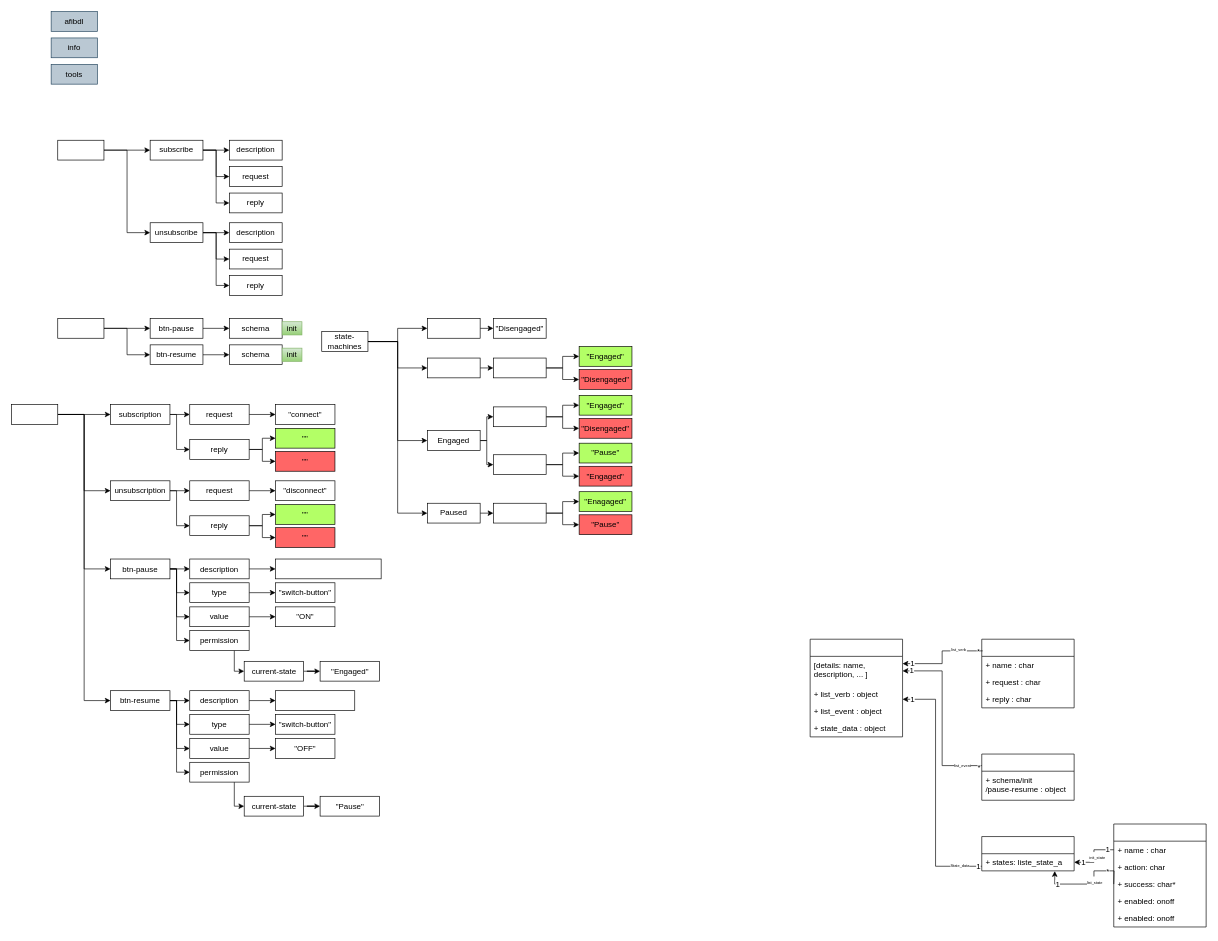
This 1218x941 diagram has some shape labels left out. Each missing label, with the box of its shape:
"btn-pause": (493, 454, 546, 475)
"btn-resume": (493, 503, 546, 523)
"Mettre le service en veille": (275, 558, 381, 579)
"Relancer le service": (275, 690, 355, 710)
"subscribe": (493, 357, 546, 378)
"unsubscribe": (493, 406, 546, 427)
Disengaged: (427, 357, 480, 378)
Event: (981, 753, 1074, 800)
events: (57, 318, 104, 338)
Initialisation: (427, 318, 480, 338)
schemas: (11, 404, 58, 424)
Service: (809, 639, 903, 737)
state: (1113, 823, 1206, 927)
statemachine: (981, 836, 1074, 871)
Verb: (981, 639, 1074, 708)
verbs: (57, 140, 104, 160)
